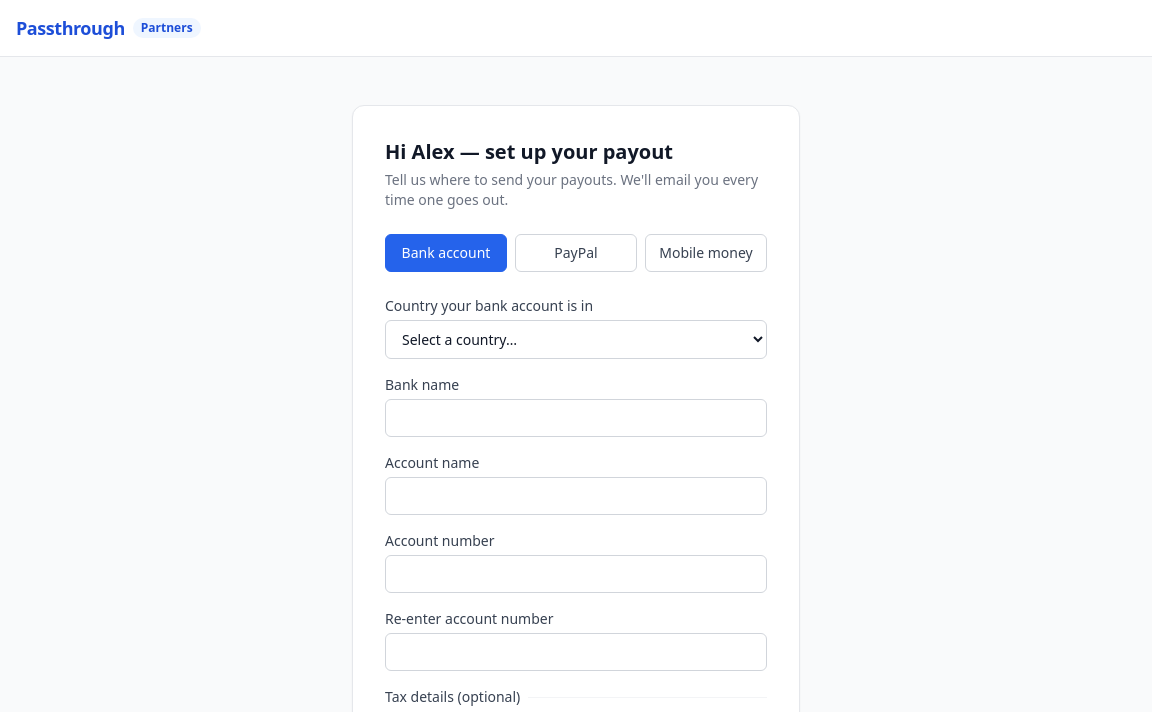
bank details by country › a UK account asks for the sort code
This screenshot has width=1152, height=712.
Select "United Kingdom" in the dropdown labelled "Country your bank account is in" at (576, 340), box [385, 320, 767, 359]
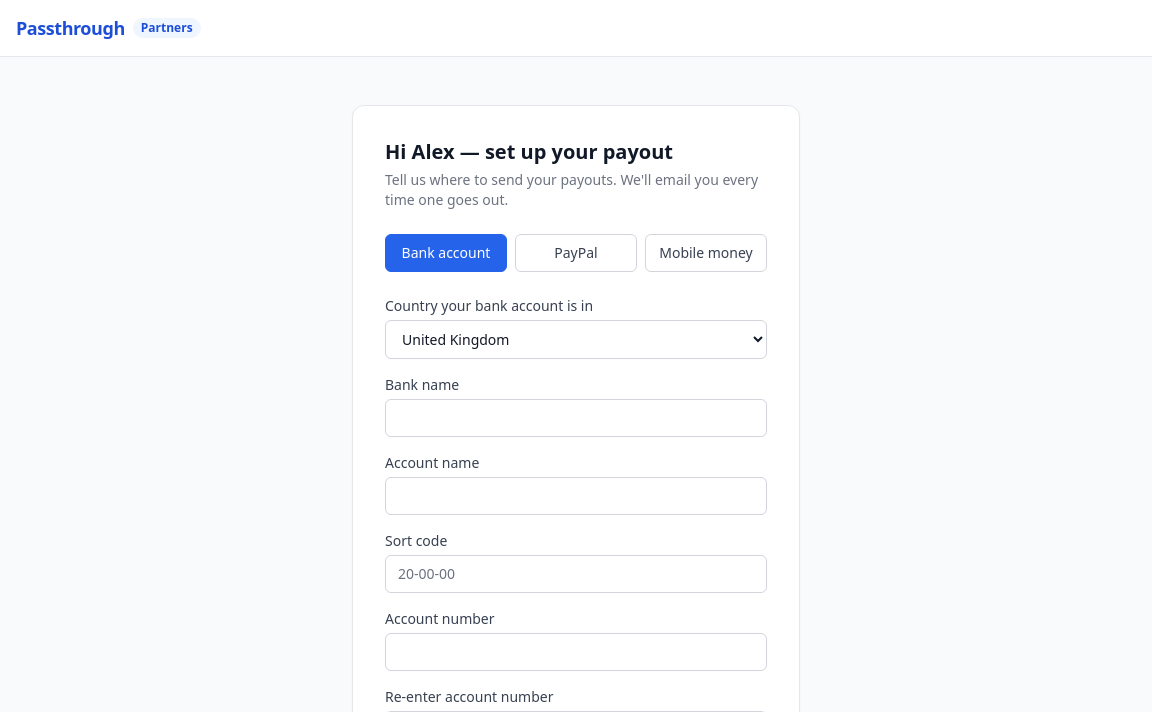
Expected: the field labelled "Sort code" is shown, [385, 555, 767, 593]
